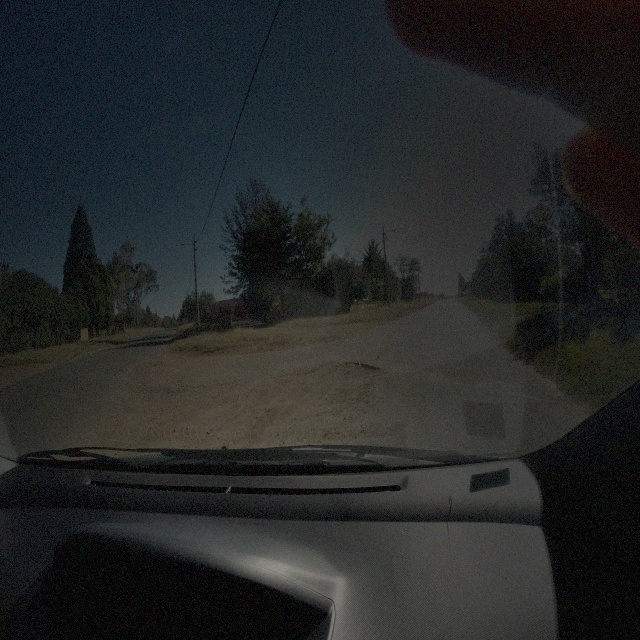pothole: (334, 358, 383, 376), (138, 361, 164, 367)
